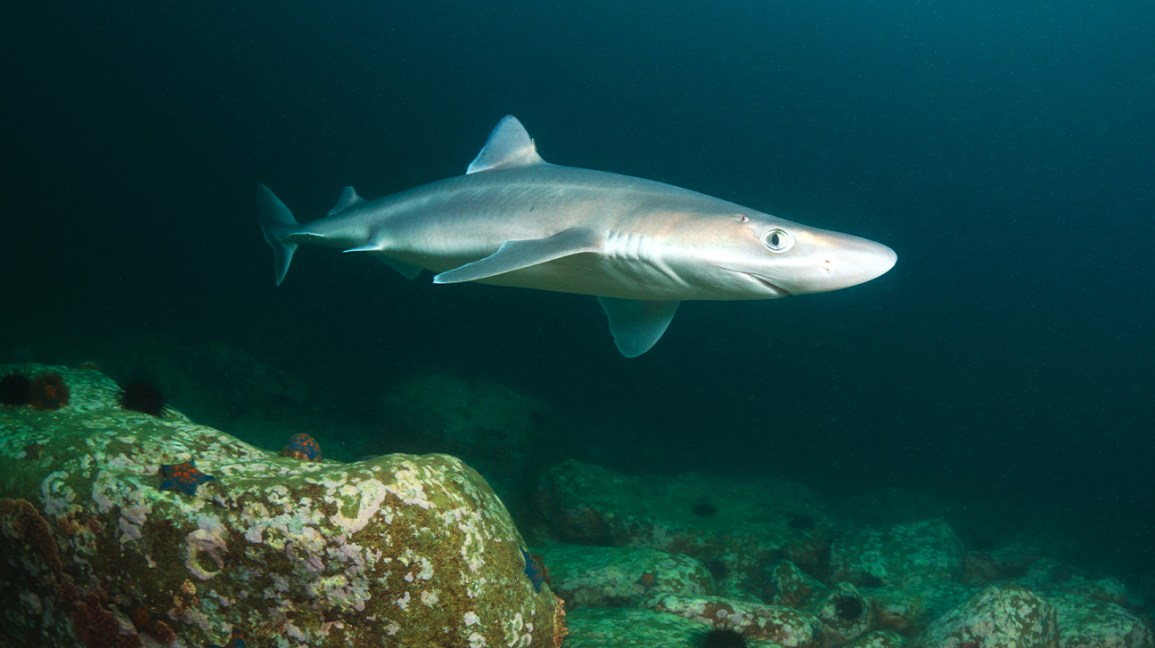shark: (244, 102, 917, 367)
